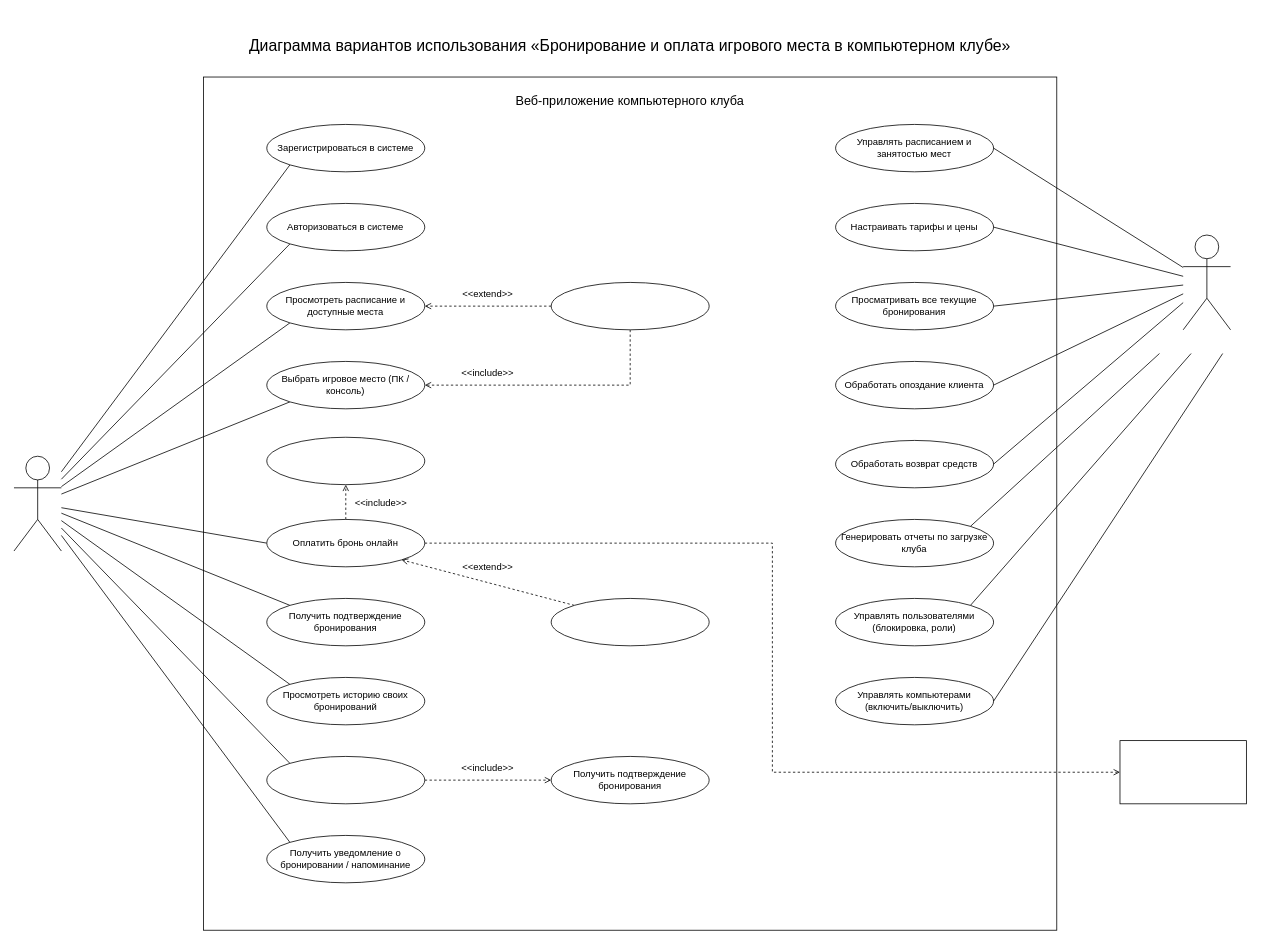
This 1266x944 diagram has some shape labels left out. The shapes that lost their labels are listed below. From the top down, each one's centre as x and y in pixels, then its label:
At pixel 1206 282: "Администратор".
At pixel 629 306: "Выбрать дату, время и длительность сеанса".
At pixel 345 460: "Рассчитать стоимость бронирования".
At pixel 37 503: "Клиент".
At pixel 629 622: "Применить промокод / скидку".
At pixel 345 780: "Отменить бронь (с соблюдением правил возврата)".
At pixel 1182 772: "«system» Платежная система".
